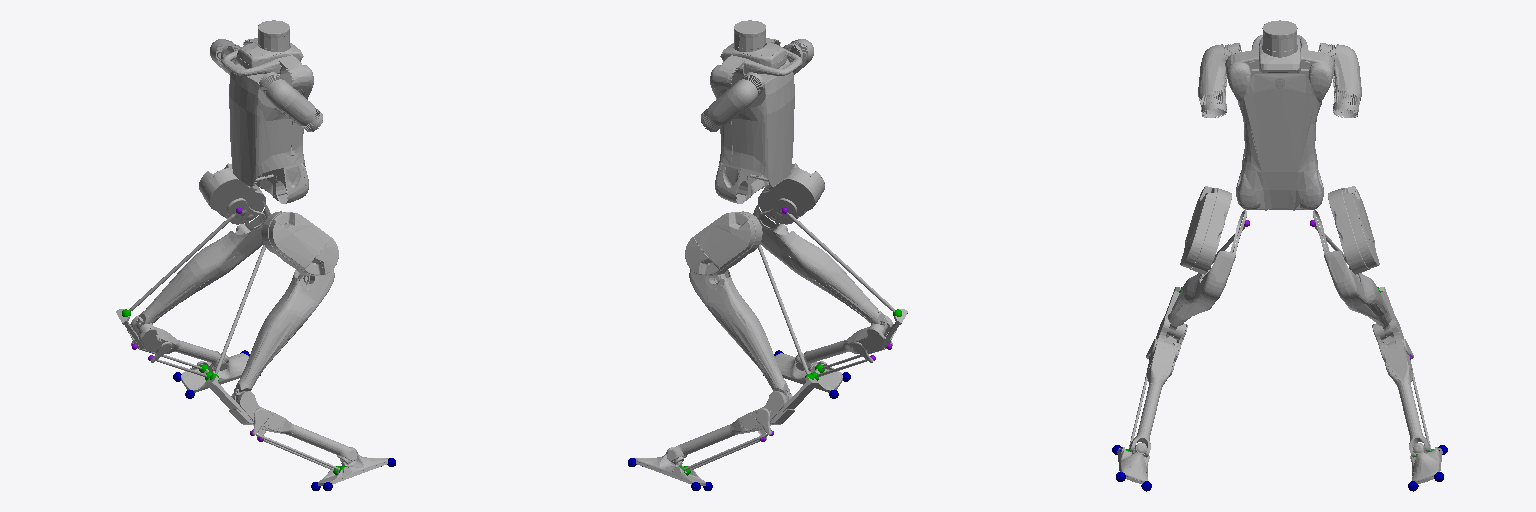
--- Render facts (derived) ---
Views: 3 orthographic renders of the robot side by side, from view 1: azimuth 30°, elevation 25°; view 2: azimuth 150°, elevation 25°; view 3: azimuth 270°, elevation 25°.
Robot: digit — 61 links, 60 joints (26 revolute, 34 fixed); root link torso; default pose: all joints at 0.
Links seen in each view (by area): view 1: torso, left_shin, right_shin, right_hip_pitch, left_hip_pitch, right_tarsus, right_shoulder_pitch, left_tarsus, left_toe_roll, right_waist_cap, right_toe_roll, right_shoulder_cap (+2 smaller); view 2: torso, right_shin, left_shin, left_hip_pitch, right_hip_pitch, left_tarsus, left_shoulder_pitch, right_tarsus, right_toe_roll, left_waist_cap, left_toe_roll, left_shoulder_cap (+3 smaller); view 3: torso, left_hip_pitch, right_hip_pitch, left_tarsus, right_tarsus, left_shin, right_shin, left_shoulder_pitch, right_shoulder_pitch, left_shoulder_cap, right_shoulder_cap, left_toe_roll (+3 smaller).
Link boxes in pixels (left/top/right/bottom): torso: left=221, top=20, right=307, bottom=195; left_shin: left=136, top=201, right=270, bottom=330; right_shin: left=234, top=269, right=334, bottom=401; right_hip_pitch: left=261, top=211, right=338, bottom=275; left_hip_pitch: left=199, top=163, right=265, bottom=229; right_tarsus: left=229, top=391, right=356, bottom=460; right_shoulder_pitch: left=259, top=72, right=322, bottom=131; left_tarsus: left=127, top=315, right=227, bottom=370; left_toe_roll: left=181, top=353, right=248, bottom=392; right_waist_cap: left=273, top=159, right=308, bottom=203; right_toe_roll: left=318, top=447, right=388, bottom=485; right_shoulder_cap: left=279, top=57, right=313, bottom=98; torso: left=716, top=20, right=802, bottom=195; right_shin: left=753, top=201, right=887, bottom=330; left_shin: left=689, top=269, right=789, bottom=401; left_hip_pitch: left=685, top=211, right=762, bottom=275; right_hip_pitch: left=758, top=163, right=824, bottom=229; left_tarsus: left=667, top=391, right=794, bottom=460; left_shoulder_pitch: left=701, top=72, right=764, bottom=131; right_tarsus: left=796, top=315, right=896, bottom=370; right_toe_roll: left=775, top=353, right=842, bottom=392; left_waist_cap: left=715, top=159, right=750, bottom=203; left_toe_roll: left=635, top=447, right=705, bottom=485; left_shoulder_cap: left=710, top=57, right=744, bottom=98; torso: left=1238, top=20, right=1321, bottom=209; left_hip_pitch: left=1313, top=186, right=1379, bottom=274; right_hip_pitch: left=1180, top=186, right=1246, bottom=274; left_tarsus: left=1372, top=317, right=1430, bottom=457; right_tarsus: left=1129, top=317, right=1187, bottom=457; left_shin: left=1324, top=251, right=1393, bottom=337; right_shin: left=1166, top=251, right=1235, bottom=337; left_shoulder_pitch: left=1318, top=43, right=1361, bottom=117; right_shoulder_pitch: left=1198, top=43, right=1241, bottom=117; left_shoulder_cap: left=1305, top=50, right=1334, bottom=103; right_shoulder_cap: left=1225, top=50, right=1254, bottom=103; left_toe_roll: left=1410, top=443, right=1442, bottom=483.
Size in the robot's own frame: 0.5717 by 0.9632 by 1.42 metres.
27 mesh visuals loaded from 19 distinct referenced files (12 binary STL); not drawn: 14 (reference not matched to a file when rendering).

The robot description file, URDF, robot "digit":
<?xml version="1.0" encoding="utf-8"?>
<robot name="digit">

    <link name="torso">
        <inertial>
            <origin rpy="0 0 0" xyz="0.001637 0.0002 0.259547"/>
            <mass value="15.028392"/>
            <inertia ixx="0.376284" ixy="-8.8e-05" ixz="0.008378" iyy="0.342655" iyz="6.7e-05" izz="0.100648"/>
        </inertial>
        <visual>
            <origin rpy="0 0 0" xyz="0 0 0"/>
            <geometry>
                <mesh filename="package://digit_description//meshes_new/torso.stl"/>
            </geometry>

            <material name="LightGrey">
                <color rgba="0.7 0.7 0.7 1.0"/>
            </material>
        </visual>
        <collision>
            <origin rpy="0 0 0" xyz="0 0 0"/>
            <geometry>
                <mesh filename="package://digit_description//meshes_new/torso.stl"/>
            </geometry>
        </collision>
    </link>

    <joint name="left_waist_cap_joint" type="fixed">
        <origin rpy="-1.57079632679 1.57 1.57079632679" xyz="-0.001 0.09 0.0"/>
        <axis xyz="0 0 1"/>
        <parent link="torso"/>
        <child link="left_waist_cap"/>
        <limit effort="1.4" lower="-1.309" upper="1.309" velocity="12.5"/>
    </joint>

    <link name="left_waist_cap">
        <inertial>
            <origin rpy="0 0 0" xyz="9e-06 0.003158 0.023405"/>
            <mass value="0.535396"/>
            <inertia ixx="0.000704" ixy="-1.4e-05" ixz="1.2e-05" iyy="0.00075" iyz="-3.5e-05" izz="0.000298"/>
        </inertial>
        <visual>
            <origin rpy="0 0 0" xyz="0 0 0"/>
            <geometry>
                <mesh filename="package://digit_description//meshes_new/shoulder-roll-housing.stl" scale="1 -1 1"/>
            </geometry>
            <material name="LightGrey">
                <color rgba="0.7 0.7 0.7 1.0"/>
            </material>
        </visual>
        <collision>
            <origin rpy="0 0 0" xyz="0 0 0"/>
            <geometry>
                <mesh filename="package://digit_description//meshes_new/shoulder-roll-housing.stl" scale="1 -1 1"/>
            </geometry>
        </collision>
    </link>

    <joint name="left-hip-roll_joint" type="revolute">
        <origin rpy="1.57079632679 -1.1955506 -1.57079632679" xyz="-0.001 0.091 0"/>
        <axis xyz="0 0 1"/>
        <parent link="torso"/>
        <child link="left_hip_roll"/>
        <limit effort="1.4" lower="-1.0472" upper="1.0472" velocity="12.15"/>
    </joint>
    <link name="left_hip_roll">
        <inertial>
            <origin rpy="0 0 0" xyz="-0.001967 0.000244 0.031435"/>
            <mass value="0.915088"/>
            <inertia ixx="0.001017" ixy="-3e-06" ixz="1.3e-05" iyy="0.001148" iyz="-4e-06" izz="0.000766"/>
        </inertial>
        <visual>
            <origin rpy="0 0 0" xyz="0 0 0"/>
            <geometry>
                <mesh filename="package://digit_description//meshes_new/hip-yaw-housing.stl"/>
            </geometry>

            <material name="LightGrey">
                <color rgba="0.7 0.7 0.7 1.0"/>
            </material>
            <material name="LightGrey">
                <color rgba="0.7 0.7 0.7 1.0"/>
            </material>
        </visual>
        <collision>
            <origin rpy="0 0 0" xyz="0 0 0"/>
            <geometry>
                <mesh filename="package://digit_description//meshes_new/hip-yaw-housing.stl"/>
            </geometry>
        </collision>
    </link>

    <joint name="left_hip_yaw_joint" type="revolute">
        <origin rpy="0 -1.57079632679 0" xyz="-0.0505 0 0.044"/>
        <axis xyz="0 0 1"/>
        <parent link="left_hip_roll"/>
        <child link="left_hip_yaw"/>
        <limit effort="1.4" lower="-0.698132" upper="0.698132" velocity="12.15"/>
    </joint>

    <link name="left_hip_yaw">
        <inertial>
            <origin rpy="0 0 0" xyz="1e-05 -0.001945 0.042033"/>
            <mass value="0.818753"/>
            <inertia ixx="0.001627" ixy="-1e-06" ixz="2e-06" iyy="0.001929" iyz="5.3e-05" izz="0.00077"/>
        </inertial>
        <visual>
            <origin rpy="0 0 0" xyz="0 0 0"/>
            <geometry>
                <mesh filename="package://digit_description//meshes_new/hip-pitch-housing.stl"/>
            </geometry>

            <material name="LightGrey">
                <color rgba="0.7 0.7 0.7 1.0"/>
            </material>
        </visual>
        <collision>
            <origin rpy="0 0 0" xyz="0 0 0"/>
            <geometry>
                <mesh filename="package://digit_description//meshes_new/hip-pitch-housing.stl"/>
            </geometry>
        </collision>
    </link>

    <joint name="left_hip_pitch_joint" type="revolute">
        <origin rpy="-1.57079632679 -0.7853981 3.1415927" xyz="0 0.004 0.068"/>
        <axis xyz="0 0 -1"/>
        <parent link="left_hip_yaw"/>
        <child link="left_hip_pitch"/>
        <limit effort="12.5" lower="-1.0472" upper="1.57079632679" velocity="8.5"/>
    </joint>

    <link name="left_hip_pitch">
        <inertial>
            <origin rpy="0 0 0" xyz="0.060537 0.000521 -0.038857"/>
            <mass value="6.244279"/>
            <inertia ixx="0.011533" ixy="-0.000171" ixz="0.000148" iyy="0.033345" iyz="0.000178" izz="0.033958"/>
        </inertial>
        <visual>
            <origin rpy="0 0 0" xyz="0 0 0"/>
            <geometry>
                <mesh filename="package://digit_description//meshes_new/hip-pitch.stl"/>
            </geometry>

            <material name="LightGrey">
                <color rgba="0.7 0.7 0.7 1.0"/>
            </material>
        </visual>
        <collision>
            <origin rpy="0 0 0" xyz="0 0 0"/>
            <geometry>
                <mesh filename="package://digit_description//meshes_new/hip-pitch.stl"/>
            </geometry>
        </collision>
    </link>

    <!-- <joint name="left_achillies_rod_joint1" type="revolute">
        <origin rpy="0.0087529 0.0708516 -1.435541" xyz="0 0 0.046"/>
        <axis xyz="0 1 0"/>
        <parent link="left_hip_pitch"/>
        <child link="left_achillies_rod_parent"/>
        <limit effort="12.5" lower="-1.5" upper="1.5" velocity="8.5085"/>
    </joint>

    <link name="left_achillies_rod_parent"/>

    <joint name="left_achillies_rod_joint2" type="revolute">
        <origin rpy="0 0 0" xyz="0 0 0"/>
        <axis xyz="0 0 1"/>
        <parent link="left_achillies_rod_parent"/>
        <child link="left_achillies_rod"/>
        <limit effort="12.5" lower="-1.5" upper="1.5" velocity="8.5085"/>
    </joint> -->

    <joint name="left_achillies_rod_joint" type="fixed">
        <origin rpy="0.0087529 0.0708516 -1.435541" xyz="0 0 0.046"/>
        <axis xyz="0 1 0"/>
        <parent link="left_hip_pitch"/>
        <child link="left_achillies_rod"/>
        <limit effort="12.5" lower="-1.5" upper="1.5" velocity="8.5085"/>
    </joint>

    <link name="left_achillies_rod">
        <inertial>
            <origin rpy="0 0 0" xyz="0.2506 0 0"/>
            <mass value="0.178148"/>
            <inertia ixx="3e-06" ixy="0" ixz="0" iyy="0.004501" iyz="0" izz="0.004501"/>
        </inertial>
        <visual>
            <origin rpy="0 0 0" xyz="0 0 0"/>
            <geometry>
                <mesh filename="package://digit_description//meshes_new/achilles-rod.stl"/>
            </geometry>

            <material name="LightGrey">
                <color rgba="0.7 0.7 0.7 1.0"/>
            </material>
        </visual>
        <collision>
            <origin rpy="0 0 0" xyz="0 0 0"/>
            <geometry>
                <mesh filename="package://digit_description//meshes_new/achilles-rod.stl"/>
            </geometry>
        </collision>
    </link>

    <joint name="left_knee_joint" type="revolute">
        <origin rpy="0 0 -1.57079632679" xyz="0.12 0 0.0045"/>
        <axis xyz="0 0 1"/>
        <parent link="left_hip_pitch"/>
        <child link="left_knee"/>
        <limit effort="12.5" lower="-1.2392" upper="0.8727" velocity="8.5085"/>
    </joint>

    <link name="left_knee">
        <inertial>
            <origin rpy="0 0 0" xyz="0.045641 0.042154 0.001657"/>
            <mass value="1.227077"/>
            <inertia ixx="0.002643" ixy="-0.001832" ixz="6.6e-05" iyy="0.005098" iyz="4.5e-05" izz="0.007019"/>
        </inertial>
        <visual>
            <origin rpy="0 0 0" xyz="0 0 0"/>
            <geometry>
                <mesh filename="package://digit_description//meshes_new/knee.stl"/>
            </geometry>

            <material name="LightGrey">
                <color rgba="0.7 0.7 0.7 1.0"/>
            </material>
        </visual>
        <collision>
            <origin rpy="0 0 0" xyz="0 0 0"/>
            <geometry>
                <mesh filename="package://digit_description//meshes_new/knee.stl"/>
            </geometry>
        </collision>
    </link>

    <joint name="left_shin_joint" type="fixed">
        <origin rpy="0 0 0" xyz="0.060677 0.047406 0"/>
        <axis xyz="0 0 1"/>
        <parent link="left_knee"/>
        <child link="left_shin"/>
        <limit effort="0" lower="-0.35" upper="0.35" velocity="10"/>
    </joint>

    <link name="left_shin">
        <inertial>
            <origin rpy="0 0 0" xyz="0.174265 0.010265 0.00107"/>
            <mass value="0.895793"/>
            <inertia ixx="0.001128" ixy="0.001098" ixz="0.000196" iyy="0.022492" iyz="-3e-06" izz="0.022793"/>
        </inertial>
        <visual>
            <origin rpy="0 0 0" xyz="0 0 0"/>
            <geometry>
                <mesh filename="package://digit_description//meshes_new/shin.stl"/>
            </geometry>

            <material name="LightGrey">
                <color rgba="0.7 0.7 0.7 1.0"/>
            </material>
        </visual>
        <collision>
            <origin rpy="0 0 0" xyz="0 0 0"/>
            <geometry>
                <mesh filename="package://digit_description//meshes_new/shin.stl"/>
            </geometry>
        </collision>
    </link>

    <joint name="left_tarsus_joint" type="revolute">
        <origin rpy="0 0 1.7976891" xyz="0.434759 0.02 0"/>
        <axis xyz="0 0 1"/>
        <parent link="left_shin"/>
        <child link="left_tarsus"/>
        <limit effort="0" lower="-0.8779" upper="1.2497" velocity="20"/>
    </joint>

    <link name="left_tarsus">
        <inertial>
            <origin rpy="0 0 0" xyz="0.100777 -0.029183 0.000678"/>
            <mass value="1.322865"/>
            <inertia ixx="0.000932" ixy="0.00061" ixz="0.000102" iyy="0.016409" iyz="9e-06" izz="0.016501"/>
        </inertial>
        <visual>
            <origin rpy="0 0 0" xyz="0 0 0"/>
            <geometry>
                <mesh filename="package://digit_description//meshes_new/tarsus.stl"/>
            </geometry>

            <material name="LightGrey">
                <color rgba="0.7 0.7 0.7 1.0"/>
            </material>
        </visual>
        <collision>
            <origin rpy="0 0 0" xyz="0 0 0"/>
            <geometry>
                <mesh filename="package://digit_description//meshes_new/tarsus.stl"/>
            </geometry>
        </collision>
    </link>

    <joint name="left_heel_spring_joint" type="fixed">
        <origin rpy="-0.0689073 -0.0370354 2.7207176" xyz="-0.01766 -0.029456 0.00104"/>
        <axis xyz="0 0 1"/>
        <parent link="left_tarsus"/>
        <child link="left_heel_spring"/>
        <limit effort="0.9" lower="-0.104719753333" upper="0.104719753333" velocity="11.5"/>
    </joint>

    <link name="left_heel_spring">
        <inertial>
            <origin rpy="0 0 0" xyz="0.049086 0.004739 -4.5e-05"/>
            <mass value="0.230018"/>
            <inertia ixx="5.5e-05" ixy="1.5e-05" ixz="1e-06" iyy="0.00074" iyz="0" izz="0.000701"/>
        </inertial>
        <visual>
            <origin rpy="0 0 0" xyz="0 0 0"/>
            <geometry>
                <mesh filename="package://digit_description//meshes_new/heel-spring.stl"/>
            </geometry>

            <material name="LightGrey">
                <color rgba="0.7 0.7 0.7 1.0"/>
            </material>
        </visual>
        <collision>
            <origin rpy="0 0 0" xyz="0 0 0"/>
            <geometry>
                <mesh filename="package://digit_description//meshes_new/heel-spring.stl"/>
            </geometry>
        </collision>
    </link>

    <joint name="left_toe_A_joint" type="revolute">
        <origin rpy="3.1415927 0 -1.6050048" xyz="0.059 -0.034 -0.0276"/>
        <axis xyz="0 0 1"/>
        <parent link="left_tarsus"/>
        <child link="left_toe_A"/>
        <limit effort="0.9" lower="-0.912807183222" upper="1.2644910215" velocity="11.5"/>
    </joint>

    <link name="left_toe_A">
        <inertial>
            <origin rpy="0 0 0" xyz="0.005161 1e-06 -0.002248"/>
            <mass value="0.139557"/>
            <inertia ixx="2.9e-05" ixy="0" ixz="-4e-06" iyy="5.8e-05" iyz="0" izz="7.4e-05"/>
        </inertial>
        <visual>
            <origin rpy="0 0 0" xyz="0 0 0"/>
            <geometry>
                <mesh filename="package://digit_description//meshes_new/toe-output.stl"/>
            </geometry>

            <material name="LightGrey">
                <color rgba="0.7 0.7 0.7 1.0"/>
            </material>
        </visual>
        <collision>
            <origin rpy="0 0 0" xyz="0 0 0"/>
            <geometry>
                <mesh filename="package://digit_description//meshes_new/toe-output.stl"/>
            </geometry>
        </collision>
    </link>

    <!-- <joint name="left_toe_A_rod_parent_joint" type="revolute">
        <origin rpy="-0.0374899 0.0049742 -1.5964351" xyz="0.057 0 -0.008"/>
        <axis xyz="0 1 0"/>
        <parent link="left_toe_A"/>
        <child link="left_toe_A_rod_parent"/>
        <limit effort="0.9" lower="-3.785398163397" upper="3.785398163397" velocity="11.5"/>
    </joint>

    <link name="left_toe_A_rod_parent" />

    <joint name="left_toe_A_rod_joint" type="revolute">
        <origin rpy="0 0 0" xyz="0 0 0"/>
        <axis xyz="0 0 1"/>
        <parent link="left_toe_A_rod_parent"/>
        <child link="left_toe_A_rod"/>
        <limit effort="0.9" lower="-3.785398163397" upper="3.785398163397" velocity="11.5"/>
    </joint> -->

    <joint name="left_toe_A_rod_parent_joint" type="fixed">
        <origin rpy="-0.0374899 0.0049742 -1.5964351" xyz="0.057 0 -0.008"/>
        <axis xyz="0 1 0"/>
        <parent link="left_toe_A"/>
        <child link="left_toe_A_rod"/>
        <limit effort="0.9" lower="-3.785398163397" upper="3.785398163397" velocity="11.5"/>
    </joint>

    <link name="left_toe_A_rod">
        <inertial>
            <origin rpy="0 0 0" xyz="0.171071 0 0"/>
            <mass value="0.090983"/>
            <inertia ixx="1e-06" ixy="0" ixz="0" iyy="0.001182" iyz="0" izz="0.001182"/>
        </inertial>
        <visual>
            <origin rpy="0 0 0" xyz="0 0 0"/>
            <geometry>
                <mesh filename="package://digit_description//meshes_new/toe-A-rod.stl"/>
            </geometry>

            <material name="LightGrey">
                <color rgba="0.7 0.7 0.7 1.0"/>
            </material>
        </visual>
        <collision>
            <origin rpy="0 0 0" xyz="0 0 0"/>
            <geometry>
                <mesh filename="package://digit_description//meshes_new/toe-A-rod.stl"/>
            </geometry>
        </collision>
    </link>

    <joint name="left_toe_B_joint" type="revolute">
        <origin rpy="0 0 -1.6049813" xyz="0.111 -0.034 0.0276"/>
        <axis xyz="0 0 1"/>
        <parent link="left_tarsus"/>
        <child link="left_toe_B"/>
        <limit effort="0.9" lower="-0.912807183222" upper="1.2644910215" velocity="11.5"/>
    </joint>

    <link name="left_toe_B">
        <inertial>
            <origin rpy="0 0 0" xyz="0.005161 1e-06 -0.002248"/>
            <mass value="0.139557"/>
            <inertia ixx="2.9e-05" ixy="0" ixz="-4e-06" iyy="5.8e-05" iyz="0" izz="7.4e-05"/>
        </inertial>
        <visual>
            <origin rpy="0 0 0" xyz="0 0 0"/>
            <geometry>
                <mesh filename="package://digit_description//meshes_new/toe-output.stl"/>
            </geometry>

            <material name="LightGrey">
                <color rgba="0.7 0.7 0.7 1.0"/>
            </material>
        </visual>
        <collision>
            <origin rpy="0 0 0" xyz="0 0 0"/>
            <geometry>
                <mesh filename="package://digit_description//meshes_new/toe-output.stl"/>
            </geometry>
        </collision>
    </link>

    <!-- <joint name="left_toe_B_rod_parent_joint" type="revolute">
        <origin rpy="-0.0536482 0.0051326 1.5948474" xyz="0.057 0 -0.008"/>
        <axis xyz="0 1 0"/>
        <parent link="left_toe_B"/>
        <child link="left_toe_B_rod_parent"/>
        <limit effort="0.9" lower="-3.785398163397" upper="3.785398163397" velocity="11.5"/>
    </joint>

    <link name="left_toe_B_rod_parent" />

    <joint name="left_toe_B_rod_joint" type="revolute">
        <origin rpy="0 0 0" xyz="0 0 0"/>
        <axis xyz="0 0 1"/>
        <parent link="left_toe_B_rod_parent"/>
        <child link="left_toe_B_rod"/>
        <limit effort="0.9" lower="-3.785398163397" upper="3.785398163397" velocity="11.5"/>
    </joint> -->

    <joint name="left_toe_B_rod_parent_joint" type="fixed">
        <origin rpy="-0.0536482 0.0051326 1.5948474" xyz="0.057 0 -0.008"/>
        <axis xyz="0 1 0"/>
        <parent link="left_toe_B"/>
        <child link="left_toe_B_rod"/>
        <limit effort="0.9" lower="-3.785398163397" upper="3.785398163397" velocity="11.5"/>
    </joint>

    <link name="left_toe_B_rod">
        <inertial>
            <origin rpy="0 0 0" xyz="0.142991 0 0"/>
            <mass value="0.079507"/>
            <inertia ixx="1e-06" ixy="0" ixz="0" iyy="0.000768" iyz="0" izz="0.000768"/>
        </inertial>
        <visual>
            <origin rpy="0 0 0" xyz="0 0 0"/>
            <geometry>
                <mesh filename="package://digit_description//meshes_new/toe-B-rod.stl"/>
            </geometry>

            <material name="LightGrey">
                <color rgba="0.7 0.7 0.7 1.0"/>
            </material>
        </visual>
        <collision>
            <origin rpy="0 0 0" xyz="0 0 0"/>
            <geometry>
                <mesh filename="package://digit_description//meshes_new/toe-B-rod.stl"/>
            </geometry>
        </collision>
    </link>

    <joint name="left_toe_pitch_joint" type="revolute">
        <origin rpy="0 0 1.1956" xyz="0.408 -0.04 0"/>
        <axis xyz="0 0 1"/>
        <parent link="left_tarsus"/>
        <child link="left_toe_pitch"/>
        <limit effort="0.9" lower="-0.785398163397" upper="0.785398163397" velocity="11.5"/>
    </joint>

    <link name="left_toe_pitch">
        <inertial>
            <origin rpy="0 0 0" xyz="-0.000141 2e-06 3e-06"/>
            <mass value="0.043881"/>
            <inertia ixx="5e-06" ixy="0" ixz="0" iyy="8e-06" iyz="0" izz="5e-06"/>
        </inertial>
        <visual>
            <origin rpy="0 0 0" xyz="0 0 0"/>
            <geometry>
                <mesh filename="package://digit_description//meshes_new/toe-pitch.stl"/>
            </geometry>

            <material name="LightGrey">
                <color rgba="0.7 0.7 0.7 1.0"/>
            </material>
        </visual>
        <collision>
            <origin rpy="0 0 0" xyz="0 0 0"/>
            <geometry>
                <mesh filename="package://digit_description//meshes_new/toe-pitch.stl"/>
            </geometry>
        </collision>
    </link>

    <joint name="left_toe_roll_joint" type="revolute">
        <origin rpy="0 1.57079632679 0" xyz="0 0 0"/>
        <axis xyz="0 0 1"/>
        <parent link="left_toe_pitch"/>
        <child link="left_toe_roll"/>
        <limit effort="0.9" lower="-0.6109" upper="0.6109" velocity="11.5"/>
    </joint>

    <link name="left_toe_roll">
        <inertial>
            <origin rpy="0 0 0" xyz="9e-06 -0.028084 -0.023204"/>
            <mass value="0.531283"/>
            <inertia ixx="0.00187" ixy="0" ixz="0" iyy="0.001616" iyz="0.000566" izz="0.000843"/>
        </inertial>
        <visual>
            <origin rpy="0 0 0" xyz="0 0 0"/>
            <geometry>
                <mesh filename="package://digit_description//meshes_new/toe-roll.stl"/>
            </geometry>

            <material name="LightGrey">
                <color rgba="0.7 0.7 0.7 1.0"/>
            </material>
        </visual>
        <collision>
            <origin rpy="0 0 0" xyz="0 0 0"/>
            <geometry>
                <mesh filename="package://digit_description//meshes_new/toe-roll.stl"/>
            </geometry>
        </collision>
    </link>

    <joint name="left_shoulder_cap_joint" type="fixed">
        <origin rpy="-1.57079632679 -1.3962633 1.57079632679" xyz="0.001 0.12 0.4"/>
        <axis xyz="0 0 1"/>
        <parent link="torso"/>
        <child link="left_shoulder_cap"/>
        <limit effort="1.4" lower="-1.309" upper="1.309" velocity="12.5"/>
    </joint>

    <link name="left_shoulder_cap">
        <inertial>
            <origin rpy="0 0 0" xyz="9e-06 -0.003158 0.023405"/>
            <mass value="0.535396"/>
            <inertia ixx="0.000704" ixy="1.4e-05" ixz="1.2e-05" iyy="0.00075" iyz="3.5e-05" izz="0.000298"/>
        </inertial>
        <visual>
            <origin rpy="0 0 0" xyz="0 0 0"/>
            <geometry>
                <mesh filename="package://digit_description//meshes_new/shoulder-roll-housing.stl"/>
            </geometry>

            <material name="LightGrey">
                <color rgba="0.7 0.7 0.7 1.0"/>
            </material>
        </visual>
        <collision>
            <origin rpy="0 0 0" xyz="0 0 0"/>
            <geometry>
                <mesh filename="package://digit_description//meshes_new/shoulder-roll-housing.stl"/>
            </geometry>
        </collision>
    </link>

    <joint name="left_shoulder_roll_joint" type="revolute">
        <origin rpy="-1.57079632679 -1.3962633 1.57079632679" xyz="-0.001 0.12 0.4"/>
        <axis xyz="0 0 1"/>
        <parent link="torso"/>
        <child link="left_shoulder_roll"/>
        <limit effort="1.4" lower="-1.309" upper="1.309" velocity="12.5"/>
    </joint>

    <link name="left_shoulder_roll">
        <inertial>
            <origin rpy="0 0 0" xyz="9e-06 -0.003158 0.023405"/>
            <mass value="0.535396"/>
            <inertia ixx="0.000704" ixy="1.4e-05" ixz="1.2e-05" iyy="0.00075" iyz="3.5e-05" izz="0.000298"/>
        </inertial>
        <visual>
            <origin rpy="0 0 0" xyz="0 0 0"/>
            <geometry>
                <mesh filename="package://digit_description//meshes_new/arm-L1.stl"/>
            </geometry>

            <material name="LightGrey">
                <color rgba="0.7 0.7 0.7 1.0"/>
            </material>
        </visual>
        <collision>
            <origin rpy="0 0 0" xyz="0 0 0"/>
            <geometry>
                <mesh filename="package://digit_description//meshes_new/arm-L1.stl"/>
            </geometry>
        </collision>
    </link>

    <joint name="left_shoulder_pitch_joint" type="revolute">
        <origin rpy="1.57079632679 0.785398163397 0.0" xyz="-0.00017 -0.011055 0.0555"/>
        <axis xyz="0 0 -1"/>
        <parent link="left_shoulder_roll"/>
        <child link="left_shoulder_pitch"/>
        <limit effort="1.4" lower="-2.5307" upper="2.5307" velocity="12.5"/>
    </joint>

    <link name="left_shoulder_pitch">
        <inertial>
            <origin rpy="0 0 0" xyz="-4.2e-05 -0.061882 -0.073788"/>
            <mass value="1.440357"/>
            <inertia ixx="0.006761" ixy="-6e-06" ixz="-3e-06" iyy="0.002087" iyz="-0.002046" izz="0.005778"/>
        </inertial>
        <visual>
            <origin rpy="0 0 0" xyz="0 0 0"/>
            <geometry>
                <mesh filename="package://digit_description//meshes_new/arm-L2.stl"/>
            </geometry>
            <material name="LightGrey">
                <color rgba="0.7 0.7 0.7 1.0"/>
            </material>
        </visual>
        <collision>
            <origin rpy="0 0 0" xyz="0 0 0"/>
            <geometry>
                <mesh filename="package://digit_description//meshes_new/arm-L2.stl"/>
            </geometry>
        </collision>
    </link>

    <joint name="shoulder_yaw_joint_left" type="revolute">
        <origin rpy="1.57079632679 0 0" xyz="0 -0.165 -0.1"/>
        <axis xyz="0 0 1"/>
        <parent link="left_shoulder_pitch"/>
        <child link="left_shoulder_yaw"/>
        <limit effort="1.4" lower="-1.7453" upper="1.7453" velocity="10"/>
    </joint>

    <link name="left_shoulder_yaw">
        <inertial>
            <origin rpy="0 0 0" xyz="-3e-05 -0.001937 0.11407"/>
            <mass value="1.065387"/>
            <inertia ixx="0.006967" ixy="1e-06" ixz="-1e-06" iyy="0.007003" iyz="1.5e-05" izz="0.000673"/>
        </inertial>
        <visual>
            <origin rpy="0 0 0" xyz="0 0 0"/>
            <geometry>
                <mesh filename="package://digit_description//meshes_new/arm-L3.stl"/>
            </geometry>

            <material name="LightGrey">
                <color rgba="0.7 0.7 0.7 1.0"/>
            </material>
        </visual>
        <collision>
            <origin rpy="0 0 0" xyz="0 0 0"/>
            <geometry>
                <mesh filename="package://digit_description//meshes_new/arm-L3.stl"/>
            </geometry>
        </collision>
    </link>

    <joint name="left_elbow_joint" type="revolute">
        <origin rpy="1.57079632679 -0.3926991 0" xyz="0 -0.0385 0.185"/>
        <axis xyz="0 0 1"/>
        <parent link="left_shoulder_yaw"/>
        <child link="left_elbow"/>
        <limit effort="1.4" lower="-1.3526" upper="1.3526" velocity="12.5"/>
    </joint>

    <link name="left_elbow">
        <inertial>
            <origin rpy="0 0 0" xyz="0.107996 -0.000521 -0.017765"/>
            <mass value="0.550582"/>
            <inertia ixx="0.000476" ixy="-2.9e-05" ixz="0.001403" iyy="0.009564" iyz="9e-06" izz="0.009437"/>
        </inertial>
        <visual>
            <origin rpy="0 0 0" xyz="0 0 0"/>
            <geometry>
                <mesh filename="package://digit_description//meshes_new/arm-L4.stl"/>
            </geometry>

            <material name="LightGrey">
                <color rgba="0.7 0.7 0.7 1.0"/>
            </material>
        </visual>
        <collision>
            <origin rpy="0 0 0" xyz="0 0 0"/>
            <geometry>
                <mesh filename="package://digit_description//meshes_new/arm-L4.stl"/>
            </geometry>
        </collision>
    </link>


    <joint name="right_waist_cap_joint" type="fixed">
        <origin rpy="1.57079632679 1.57 -1.57079632679" xyz="-0.001 -0.09 0.0"/>
        <axis xyz="0 0 1"/>
        <parent link="torso"/>
        <child link="right_waist_cap"/>
        <limit effort="1.4" lower="-1.309" upper="1.309" velocity="12.5"/>
    </joint>

    <link name="right_waist_cap">
        <inertial>
            <origin rpy="0 0 0" xyz="9e-06 -0.003158 0.023405"/>
            <mass value="0.535396"/>
            <inertia ixx="0.000704" ixy="1.4e-05" ixz="1.2e-05" iyy="0.00075" iyz="3.5e-05" izz="0.000298"/>
        </inertial>
        <visual>
            <origin rpy="0 0 0" xyz="0 0 0"/>
            <geometry>
                <mesh filename="package://digit_description//meshes_new/shoulder-roll-housing.stl"/>
            </geometry>
            <material name="LightGrey">
                <color rgba="0.7 0.7 0.7 1.0"/>
            </material>
        </visual>
        <collision>
            <origin rpy="0 0 0" xyz="0 0 0"/>
            <geometry>
                <mesh filename="package://digit_description//meshes_new/shoulder-roll-housing.stl"/>
            </geometry>
        </collision>
    </link>

    <joint name="right-hip-roll_joint" type="revolute">
        <origin rpy="-1.57079632679 -1.1955506 1.57079632679" xyz="-0.001 -0.091 0"/>
        <axis xyz="0 0 1"/>
        <parent link="torso"/>
        <child link="right_hip_roll"/>
        <limit effort="1.4" lower="-1.0472" upper="1.0472" velocity="12.15"/>
    </joint>
    <link name="right_hip_roll">
        <inertial>
            <origin rpy="0 0 0" xyz="-0.001967 -0.000244 0.031435"/>
            <mass value="0.915088"/>
            <inertia ixx="0.001017" ixy="3e-06" ixz="1.3e-05" iyy="0.001148" iyz="4e-06" izz="0.000766"/>
        </inertial>
        <visual>
            <origin rpy="0 0 0" xyz="0 0 0"/>
            <geometry>
                <mesh filename="package://digit_description//meshes_new/hip-yaw-housing.stl" scale="1 -1 1"/>
            </geometry>

            <material name="LightGrey">
                <color rgba="0.7 0.7 0.7 1.0"/>
            </material>
            <material name="LightGrey">
                <color rgba="0.7 0.7 0.7 1.0"/>
            </material>
        </visual>
        <collision>
            <origin rpy="0 0 0" xyz="0 0 0"/>
            <geometry>
                <mesh filename="package://digit_description//meshes_new/hip-yaw-housing.stl" scale="1 -1 1"/>
            </geometry>
        </collision>
    </link>

    <joint name="right_hip_yaw_joint" type="revolute">
        <origin rpy="0 -1.57079632679 0" xyz="-0.0505 0 0.044"/>
        <axis xyz="0 0 1"/>
        <parent link="right_hip_roll"/>
        <child link="right_hip_yaw"/>
        <limit effort="1.4" lower="-0.698132" upper="0.698132" velocity="12.15"/>
    </joint>

    <link name="right_hip_yaw">
        <inertial>
            <origin rpy="0 0 0" xyz="1e-05 0.001945 0.042033"/>
            <mass value="0.818753"/>
            <inertia ixx="0.001627" ixy="1e-06" ixz="2e-06" iyy="0.001929" iyz="-5.3e-05" izz="0.00077"/>
        </inertial>
        <visual>
            <origin rpy="0 0 0" xyz="0 0 0"/>
            <geometry>
                <mesh filename="package://digit_description//meshes_new/hip-pitch-housing.stl" scale="1 -1 1"/>
            </geometry>

            <material name="LightGrey">
                <color rgba="0.7 0.7 0.7 1.0"/>
            </material>
        </visual>
        <collision>
            <origin rpy="0 0 0" xyz="0 0 0"/>
            <geometry>
                <mesh filename="package://digit_description//meshes_new/hip-pitch-housing.stl" scale="1 -1 1"/>
            </geometry>
        </collision>
    </link>

    <joint name="right_hip_pitch_joint" type="revolute">
        <origin rpy="1.57079632679 -0.7853981 -3.1415927" xyz="0 -0.004 0.068"/>
        <axis xyz="0 0 -1"/>
        <parent link="right_hip_yaw"/>
        <child link="right_hip_pitch"/>
        <limit effort="12.5" lower="-1.0472" upper="1.57079632679" velocity="8.5"/>
    </joint>

    <link name="right_hip_pitch">
        <inertial>
            <origin rpy="0 0 0" xyz="0.060537 -0.000521 -0.038857"/>
            <mass value="6.244279"/>
            <inertia ixx="0.011533" ixy="0.000171" ixz="0.000148" iyy="0.033345" iyz="-0.000178" izz="0.033958"/>
        </inertial>
        <visual>
            <origin rpy="0 0 0" xyz="0 0 0"/>
            <geometry>
                <mesh filename="package://digit_description//meshes_new/hip-pitch.stl" scale="1 -1 1"/>
            </geometry>

            <material name="LightGrey">
                <color rgba="0.7 0.7 0.7 1.0"/>
            </material>
        </visual>
        <collision>
            <origin rpy="0 0 0" xyz="0 0 0"/>
            <geometry>
                <mesh filename="package://digit_description//meshes_new/hip-pitch.stl" scale="1 -1 1"/>
            </geometry>
        </collision>
    </link>

    <!-- <joint name="right_achillies_rod_joint1" type="revolute">
        <origin rpy="-0.0087529 0.0708516 1.435541" xyz="0 0 0.046"/>
        <axis xyz="0 1 0"/>
        <parent link="right_hip_pitch"/>
        <child link="right_achillies_rod_parent"/>
        <limit effort="12.5" lower="-1.5" upper="1.5" velocity="8.5085"/>
    </joint>

    <link name="right_achillies_rod_parent"/>

    <joint name="right_achillies_rod_joint2" type="revolute">
        <origin rpy="0 0 0" xyz="0 0 0"/>
        <axis xyz="0 0 1"/>
        <parent link="right_achillies_rod_parent"/>
        <child link="right_achillies_rod"/>
        <limit effort="12.5" lower="-1.5" upper="1.5" velocity="8.5085"/>
    </joint> -->

    <joint name="right_achillies_rod_joint" type="fixed">
        <origin rpy="-0.0087529 0.0708516 1.435541" xyz="0 0 0.046"/>
        <axis xyz="0 1 0"/>
        <parent link="right_hip_pitch"/>
        <child link="right_achillies_rod"/>
        <limit effort="12.5" lower="-1.5" upper="1.5" velocity="8.5085"/>
    </joint>

    <link name="right_achillies_rod">
        <inertial>
            <origin rpy="0 0 0" xyz="0.2506 0 0"/>
            <mass value="0.178148"/>
            <inertia ixx="3e-06" ixy="0" ixz="0" iyy="0.004501" iyz="0" izz="0.004501"/>
        </inertial>
        <visual>
            <origin rpy="0 0 0" xyz="0 0 0"/>
            <geometry>
                <mesh filename="package://digit_description//meshes_new/achilles-rod.stl" scale="1 -1 1"/>
            </geometry>

            <material name="LightGrey">
                <color rgba="0.7 0.7 0.7 1.0"/>
            </material>
        </visual>
        <collision>
            <origin rpy="0 0 0" xyz="0 0 0"/>
            <geometry>
                <mesh filename="package://digit_description//meshes_new/achilles-rod.stl" scale="1 -1 1"/>
            </geometry>
        </collision>
    </link>

    <joint name="right_knee_joint" type="revolute">
        <origin rpy="0 0 1.57079632679" xyz="0.12 0 0.0045"/>
        <axis xyz="0 0 1"/>
        <parent link="right_hip_pitch"/>
        <child link="right_knee"/>
        <limit effort="12.5" lower="-0.8727" upper="1.2392" velocity="8.5085"/>
    </joint>

    <link name="right_knee">
        <inertial>
            <origin rpy="0 0 0" xyz="0.045641 -0.042154 0.001657"/>
            <mass value="1.227077"/>
            <inertia ixx="0.002643" ixy="0.001832" ixz="6.6e-05" iyy="0.005098" iyz="-4.5e-05" izz="0.007019"/>
        </inertial>
        <visual>
            <origin rpy="0 0 0" xyz="0 0 0"/>
            <geometry>
                <mesh filename="package://digit_description//meshes_new/knee.stl" scale="1 -1 1"/>
            </geometry>

            <material name="LightGrey">
                <color rgba="0.7 0.7 0.7 1.0"/>
            </material>
        </visual>
        <collision>
            <origin rpy="0 0 0" xyz="0 0 0"/>
            <geometry>
                <mesh filename="package://digit_description//meshes_new/knee.stl" scale="1 -1 1"/>
            </geometry>
        </collision>
    </link>

    <joint name="right_shin_joint" type="fixed">
        <origin rpy="0 0 0" xyz="0.060677 -0.047406 0"/>
        <axis xyz="0 0 1"/>
        <parent link="right_knee"/>
        <child link="right_shin"/>
        <limit effort="0" lower="-0.35" upper="0.35" velocity="10"/>
    </joint>

    <link name="right_shin">
        <inertial>
            <origin rpy="0 0 0" xyz="0.174265 -0.010265 0.00107"/>
            <mass value="0.895793"/>
            <inertia ixx="0.001128" ixy="-0.001098" ixz="0.000196" iyy="0.022492" iyz="3e-06" izz="0.022793"/>
        </inertial>
        <visual>
            <origin rpy="0 0 0" xyz="0 0 0"/>
            <geometry>
                <mesh filename="package://digit_description//meshes_new/shin.stl" scale="1 -1 1"/>
            </geometry>

            <material name="LightGrey">
                <color rgba="0.7 0.7 0.7 1.0"/>
            </material>
        </visual>
        <collision>
            <origin rpy="0 0 0" xyz="0 0 0"/>
            <geometry>
                <mesh filename="package://digit_description//meshes_new/shin.stl" scale="1 -1 1"/>
            </geometry>
        </collision>
    </link>

    <joint name="right_tarsus_joint" type="revolute">
        <origin rpy="0 0 -1.7976891" xyz="0.434759 -0.02 0"/>
        <axis xyz="0 0 1"/>
        <parent link="right_shin"/>
        <child link="right_tarsus"/>
        <limit effort="0" lower="-1.2497" upper="0.8779" velocity="20"/>
    </joint>

    <link name="right_tarsus">
        <inertial>
            <origin rpy="0 0 0" xyz="0.100777 0.029183 0.000678"/>
            <mass value="1.322865"/>
            <inertia ixx="0.000932" ixy="-0.00061" ixz="0.000102" iyy="0.016409" iyz="-9e-06" izz="0.016501"/>
        </inertial>
        <visual>
            <origin rpy="0 0 0" xyz="0 0 0"/>
            <geometry>
                <mesh filename="package://digit_description//meshes_new/tarsus.stl" scale="1 -1 1"/>
            </geometry>

            <material name="LightGrey">
                <color rgba="0.7 0.7 0.7 1.0"/>
            </material>
        </visual>
        <collision>
            <origin rpy="0 0 0" xyz="0 0 0"/>
            <geometry>
                <mesh filename="package://digit_description//meshes_new/tarsus.stl" scale="1 -1 1"/>
            </geometry>
        </collision>
    </link>

    <joint name="right_heel_spring_joint" type="fixed">
        <origin rpy="0.0689073 -0.0370354 -2.7207176" xyz="-0.01766 0.029456 0.00104"/>
        <axis xyz="0 0 1"/>
        <parent link="right_tarsus"/>
        <child link="right_heel_spring"/>
        <limit effort="0.9" lower="-0.104719753333" upper="0.104719753333" velocity="11.5"/>
    </joint>

    <link name="right_heel_spring">
        <inertial>
            <origin rpy="0 0 0" xyz="0.049086 -0.004739 -4.5e-05"/>
            <mass value="0.230018"/>
            <inertia ixx="5.5e-05" ixy="-1.5e-05" ixz="1e-06" iyy="0.00074" iyz="0" izz="0.000701"/>
        </inertial>
        <visual>
            <origin rpy="0 0 0" xyz="0 0 0"/>
            <geometry>
                <mesh filename="package://digit_description//meshes_new/heel-spring.stl" scale="1 -1 1"/>
            </geometry>

            <material name="LightGrey">
                <color rgba="0.7 0.7 0.7 1.0"/>
            </material>
        </visual>
        <collision>
            <origin rpy="0 0 0" xyz="0 0 0"/>
            <geometry>
                <mesh filename="package://digit_description//meshes_new/heel-spring.stl" scale="1 -1 1"/>
            </geometry>
        </collision>
    </link>

    <joint name="right_toe_A_joint" type="revolute">
        <origin rpy="-3.1415927 0 1.6050048" xyz="0.059 0.034 -0.0276"/>
        <axis xyz="0 0 1"/>
        <parent link="right_tarsus"/>
        <child link="right_toe_A"/>
        <limit effort="0.9" lower="-1.2644910215" upper="0.912807183222" velocity="11.5"/>
    </joint>

    <link name="right_toe_A">
        <inertial>
            <origin rpy="0 0 0" xyz="0.005161 -1e-06 -0.002248"/>
            <mass value="0.139557"/>
            <inertia ixx="2.9e-05" ixy="0" ixz="-4e-06" iyy="5.8e-05" iyz="0" izz="7.4e-05"/>
        </inertial>
        <visual>
            <origin rpy="0 0 0" xyz="0 0 0"/>
            <geometry>
                <mesh filename="package://digit_description//meshes_new/toe-output.stl" scale="1 -1 1"/>
            </geometry>

            <material name="LightGrey">
                <color rgba="0.7 0.7 0.7 1.0"/>
            </material>
        </visual>
        <collision>
            <origin rpy="0 0 0" xyz="0 0 0"/>
            <geometry>
                <mesh filename="package://digit_description//meshes_new/toe-output.stl" scale="1 -1 1"/>
            </geometry>
        </collision>
    </link>

    <!-- <joint name="right_toe_A_rod_parent_joint" type="revolute">
        <origin rpy="0.0374899 0.0049742 1.5964351" xyz="0.057 0 -0.008"/>
        <axis xyz="0 1 0"/>
        <parent link="right_toe_A"/>
        <child link="right_toe_A_rod_parent"/>
        <limit effort="0.9" lower="-3.785398163397" upper="3.785398163397" velocity="11.5"/>
    </joint>

    <link name="right_toe_A_rod_parent" />

    <joint name="right_toe_A_rod_joint" type="revolute">
        <origin rpy="0 0 0" xyz="0 0 0"/>
        <axis xyz="0 0 1"/>
        <parent link="right_toe_A_rod_parent"/>
        <child link="right_toe_A_rod"/>
        <limit effort="0.9" lower="-3.785398163397" upper="3.785398163397" velocity="11.5"/>
    </joint> -->

    <joint name="right_toe_A_rod_parent_joint" type="fixed">
        <origin rpy="0.0374899 0.0049742 1.5964351" xyz="0.057 0 -0.008"/>
        <axis xyz="0 1 0"/>
        <parent link="right_toe_A"/>
        <child link="right_toe_A_rod"/>
        <limit effort="0.9" lower="-3.785398163397" upper="3.785398163397" velocity="11.5"/>
    </joint>


    <link name="right_toe_A_rod">
        <inertial>
            <origin rpy="0 0 0" xyz="0.171071 0 0"/>
            <mass value="0.090983"/>
            <inertia ixx="1e-06" ixy="0" ixz="0" iyy="0.001182" iyz="0" izz="0.001182"/>
        </inertial>
        <visual>
            <origin rpy="0 0 0" xyz="0 0 0"/>
            <geometry>
                <mesh filename="package://digit_description//meshes_new/toe-A-rod.stl" scale="1 -1 1"/>
            </geometry>

            <material name="LightGrey">
                <color rgba="0.7 0.7 0.7 1.0"/>
            </material>
        </visual>
        <collision>
            <origin rpy="0 0 0" xyz="0 0 0"/>
            <geometry>
                <mesh filename="package://digit_description//meshes_new/toe-A-rod.stl" scale="1 -1 1"/>
            </geometry>
        </collision>
    </link>

    <joint name="right_toe_B_joint" type="revolute">
        <origin rpy="0 0 1.6049813" xyz="0.111 0.034 0.0276"/>
        <axis xyz="0 0 1"/>
        <parent link="right_tarsus"/>
        <child link="right_toe_B"/>
        <limit effort="0.9" lower="-0.912807183222" upper="1.2644910215" velocity="11.5"/>
    </joint>

    <link name="right_toe_B">
        <inertial>
            <origin rpy="0 0 0" xyz="0.005161 -1e-06 -0.002248"/>
            <mass value="0.139557"/>
            <inertia ixx="2.9e-05" ixy="0" ixz="-4e-06" iyy="5.8e-05" iyz="0" izz="7.4e-05"/>
        </inertial>
        <visual>
            <origin rpy="0 0 0" xyz="0 0 0"/>
            <geometry>
                <mesh filename="package://digit_description//meshes_new/toe-output.stl" scale="1 -1 1"/>
            </geometry>

            <material name="LightGrey">
                <color rgba="0.7 0.7 0.7 1.0"/>
            </material>
        </visual>
        <collision>
            <origin rpy="0 0 0" xyz="0 0 0"/>
            <geometry>
                <mesh filename="package://digit_description//meshes_new/toe-output.stl" scale="1 -1 1"/>
            </geometry>
        </collision>
    </link>

    <!-- <joint name="right_toe_B_rod_parent_joint" type="revolute">
        <origin rpy="0.0536482 0.0051326 -1.5948474" xyz="0.057 0 -0.008"/>
        <axis xyz="0 1 0"/>
        <parent link="right_toe_B"/>
        <child link="right_toe_B_rod_parent"/>
        <limit effort="0.9" lower="-3.785398163397" upper="3.785398163397" velocity="11.5"/>
    </joint>

    <link name="right_toe_B_rod_parent" />

    <joint name="right_toe_B_rod_joint" type="revolute">
        <origin rpy="0 0 0" xyz="0 0 0"/>
        <axis xyz="0 0 1"/>
        <parent link="right_toe_B_rod_parent"/>
        <child link="right_toe_B_rod"/>
        <limit effort="0.9" lower="-3.785398163397" upper="3.785398163397" velocity="11.5"/>
    </joint> -->

    <joint name="right_toe_B_rod_parent_joint" type="fixed">
        <origin rpy="0.0536482 0.0051326 -1.5948474" xyz="0.057 0 -0.008"/>
        <axis xyz="0 1 0"/>
        <parent link="right_toe_B"/>
        <child link="right_toe_B_rod"/>
        <limit effort="0.9" lower="-3.785398163397" upper="3.785398163397" velocity="11.5"/>
    </joint>

    <link name="right_toe_B_rod">
        <inertial>
            <origin rpy="0 0 0" xyz="0.142991 0 0"/>
            <mass value="0.079507"/>
            <inertia ixx="1e-06" ixy="0" ixz="0" iyy="0.000768" iyz="0" izz="0.000768"/>
        </inertial>
        <visual>
            <origin rpy="0 0 0" xyz="0 0 0"/>
            <geometry>
                <mesh filename="package://digit_description//meshes_new/toe-B-rod.stl" scale="1 -1 1"/>
            </geometry>

            <material name="LightGrey">
                <color rgba="0.7 0.7 0.7 1.0"/>
            </material>
        </visual>
        <collision>
            <origin rpy="0 0 0" xyz="0 0 0"/>
            <geometry>
                <mesh filename="package://digit_description//meshes_new/toe-B-rod.stl" scale="1 -1 1"/>
            </geometry>
        </collision>
    </link>

    <joint name="right_toe_pitch_joint" type="revolute">
        <origin rpy="0 0 -1.1956" xyz="0.408 0.04 0"/>
        <axis xyz="0 0 1"/>
        <parent link="right_tarsus"/>
        <child link="right_toe_pitch"/>
        <limit effort="0.9" lower="-0.785398163397" upper="0.785398163397" velocity="11.5"/>
    </joint>

    <link name="right_toe_pitch">
        <inertial>
            <origin rpy="0 0 0" xyz="-0.000141 -2e-06 3e-06"/>
            <mass value="0.043881"/>
            <inertia ixx="5e-06" ixy="0" ixz="0" iyy="8e-06" iyz="0" izz="5e-06"/>
        </inertial>
        <visual>
            <origin rpy="0 0 0" xyz="0 0 0"/>
            <geometry>
                <mesh filename="package://digit_description//meshes_new/toe-pitch.stl" scale="1 -1 1"/>
            </geometry>

            <material name="LightGrey">
                <color rgba="0.7 0.7 0.7 1.0"/>
            </material>
        </visual>
        <collision>
            <origin rpy="0 0 0" xyz="0 0 0"/>
            <geometry>
                <mesh filename="package://digit_description//meshes_new/toe-pitch.stl" scale="1 -1 1"/>
            </geometry>
        </collision>
    </link>

    <joint name="right_toe_roll_joint" type="revolute">
        <origin rpy="0 1.57079632679 0" xyz="0 0 0"/>
        <axis xyz="0 0 1"/>
        <parent link="right_toe_pitch"/>
        <child link="right_toe_roll"/>
        <limit effort="0.9" lower="-0.6109" upper="0.6109" velocity="11.5"/>
    </joint>

    <link name="right_toe_roll">
        <inertial>
            <origin rpy="0 0 0" xyz="9e-06 0.028084 -0.023204"/>
            <mass value="0.531283"/>
            <inertia ixx="0.00187" ixy="0" ixz="0" iyy="0.001616" iyz="-0.000566" izz="0.000843"/>
        </inertial>
        <visual>
            <origin rpy="0 0 0" xyz="0 0 0"/>
            <geometry>
                <mesh filename="package://digit_description//meshes_new/toe-roll.stl" scale="1 -1 1"/>
            </geometry>

            <material name="LightGrey">
                <color rgba="0.7 0.7 0.7 1.0"/>
            </material>
        </visual>
        <collision>
            <origin rpy="0 0 0" xyz="0 0 0"/>
            <geometry>
                <mesh filename="package://digit_description//meshes_new/toe-roll.stl" scale="1 -1 1"/>
            </geometry>
        </collision>
    </link>

    <joint name="right_shoulder_cap_joint" type="fixed">
        <origin rpy="1.57079632679 -1.3962633 -1.57079632679" xyz="0.001 -0.12 0.4"/>
        <axis xyz="0 0 1"/>
        <parent link="torso"/>
        <child link="right_shoulder_cap"/>
        <limit effort="1.4" lower="-1.309" upper="1.309" velocity="12.5"/>
    </joint>

    <link name="right_shoulder_cap">
        <inertial>
            <origin rpy="0 0 0" xyz="9e-06 0.003158 0.023405"/>
            <mass value="0.535396"/>
            <inertia ixx="0.000704" ixy="-1.4e-05" ixz="1.2e-05" iyy="0.00075" iyz="-3.5e-05" izz="0.000298"/>
        </inertial>
        <visual>
            <origin rpy="0 0 0" xyz="0 0 0"/>
            <geometry>
                <mesh filename="package://digit_description//meshes_new/shoulder-roll-housing.stl" scale="1 -1 1"/>
            </geometry>

            <material name="LightGrey">
                <color rgba="0.7 0.7 0.7 1.0"/>
            </material>
        </visual>
        <collision>
            <origin rpy="0 0 0" xyz="0 0 0"/>
            <geometry>
                <mesh filename="package://digit_description//meshes_new/shoulder-roll-housing.stl" scale="1 -1 1"/>
            </geometry>
        </collision>
    </link>

    <joint name="right_shoulder_roll_joint" type="revolute">
        <origin rpy="1.57079632679 -1.3962633 -1.57079632679" xyz="-0.001 -0.12 0.4"/>
        <axis xyz="0 0 1"/>
        <parent link="torso"/>
        <child link="right_shoulder_roll"/>
        <limit effort="1.4" lower="-1.309" upper="1.309" velocity="12.5"/>
    </joint>

    <link name="right_shoulder_roll">
        <inertial>
            <origin rpy="0 0 0" xyz="9e-06 -0.003158 0.023405"/>
            <mass value="0.535396"/>
            <inertia ixx="0.000704" ixy="-1.4e-05" ixz="1.2e-05" iyy="0.00075" iyz="-3.5e-05" izz="0.000298"/>
        </inertial>
        <visual>
            <origin rpy="0 0 0" xyz="0 0 0"/>
            <geometry>
                <mesh filename="package://digit_description//meshes_new/arm-L1.stl" scale="1 -1 1"/>
            </geometry>

            <material name="LightGrey">
                <color rgba="0.7 0.7 0.7 1.0"/>
            </material>
        </visual>
        <collision>
            <origin rpy="0 0 0" xyz="0 0 0"/>
            <geometry>
                <mesh filename="package://digit_description//meshes_new/arm-L1.stl" scale="1 -1 1"/>
            </geometry>
        </collision>
    </link>

    <joint name="right_shoulder_pitch_joint" type="revolute">
        <origin rpy="-1.57079632679 0.785398163397 0.0" xyz="-0.00017 0.011055 0.0555"/>
        <axis xyz="0 0 -1"/>
        <parent link="right_shoulder_roll"/>
        <child link="right_shoulder_pitch"/>
        <limit effort="1.4" lower="-2.5307" upper="2.5307" velocity="12.5"/>
    </joint>

    <link name="right_shoulder_pitch">
        <inertial>
            <origin rpy="0 0 0" xyz="-4.2e-05 0.061882 -0.073788"/>
            <mass value="1.440357"/>
            <inertia ixx="0.006761" ixy="6e-06" ixz="-3e-06" iyy="0.002087" iyz="0.002046" izz="0.005778"/>
        </inertial>
        <visual>
            <origin rpy="0 0 0" xyz="0 0 0"/>
            <geometry>
                <mesh filename="package://digit_description//meshes_new/arm-L2.stl" scale="1 -1 1"/>
            </geometry>
            <material name="LightGrey">
                <color rgba="0.7 0.7 0.7 1.0"/>
            </material>
        </visual>
        <collision>
            <origin rpy="0 0 0" xyz="0 0 0"/>
            <geometry>
                <mesh filename="package://digit_description//meshes_new/arm-L2.stl" scale="1 -1 1"/>
            </geometry>
        </collision>
    </link>

    <joint name="shoulder_yaw_joint_right" type="revolute">
        <origin rpy="-1.57079632679 0 0" xyz="0 0.165 -0.1"/>
        <axis xyz="0 0 1"/>
        <parent link="right_shoulder_pitch"/>
        <child link="right_shoulder_yaw"/>
        <limit effort="1.4" lower="-1.7453" upper="1.7453" velocity="10"/>
    </joint>

    <link name="right_shoulder_yaw">
        <inertial>
            <origin rpy="0 0 0" xyz="-3e-05 -0.001937 0.11407"/>
            <mass value="1.065387"/>
            <inertia ixx="0.006967" ixy="-1e-06" ixz="-1e-06" iyy="0.007003" iyz="-1.5e-05" izz="0.000673"/>
        </inertial>
        <visual>
            <origin rpy="0 0 0" xyz="0 0 0"/>
            <geometry>
                <mesh filename="package://digit_description//meshes_new/arm-L3.stl" scale="1 -1 1"/>
            </geometry>

            <material name="LightGrey">
                <color rgba="0.7 0.7 0.7 1.0"/>
            </material>
        </visual>
        <collision>
            <origin rpy="0 0 0" xyz="0 0 0"/>
            <geometry>
                <mesh filename="package://digit_description//meshes_new/arm-L3.stl" scale="1 -1 1"/>
            </geometry>
        </collision>
    </link>

    <joint name="right_elbow_joint" type="revolute">
        <origin rpy="-1.57079632679 -0.3926991 0" xyz="0 0.0385 0.185"/>
        <axis xyz="0 0 1"/>
        <parent link="right_shoulder_yaw"/>
        <child link="right_elbow"/>
        <limit effort="1.4" lower="-1.3526" upper="1.3526" velocity="12.5"/>
    </joint>

    <link name="right_elbow">
        <inertial>
            <origin rpy="0 0 0" xyz="0.107996 0.000521 -0.017765"/>
            <mass value="0.550582"/>
            <inertia ixx="0.000476" ixy="2.9e-05" ixz="0.001403" iyy="0.009564" iyz="-9e-06" izz="0.009437"/>
        </inertial>
        <visual>
            <origin rpy="0 0 0" xyz="0 0 0"/>
            <geometry>
                <mesh filename="package://digit_description//meshes_new/arm-L4.stl" scale="1 -1 1"/>
            </geometry>

            <material name="LightGrey">
                <color rgba="0.7 0.7 0.7 1.0"/>
            </material>
        </visual>
        <collision>
            <origin rpy="0 0 0" xyz="0 0 0"/>
            <geometry>
                <mesh filename="package://digit_description//meshes_new/arm-L4.stl" scale="1 -1 1"/>
            </geometry>
        </collision>
    </link>

    <joint name="cp_left_achillies_rod_joint" type="fixed">
        <origin rpy="0 0 0" xyz="0 0 0"/>
        <axis xyz="0 0 1"/>
        <parent link="left_achillies_rod"/>
        <child link="cp_left_achillies_rod"/>
    </joint>

    <link name="cp_left_achillies_rod">
        <visual>
            <origin rpy="0 0 0" xyz="0 0 0"/>
            <geometry>
                <sphere radius="0.010"/>
            </geometry>
            <material name="LightPurple">
                <color rgba="0.6 0.1 0.9 0.7"/>
            </material>
        </visual>
    </link>

    <joint name="cp_left_heel_spring_joint" type="fixed">
        <origin rpy="0 0 0" xyz="0.113789 -0.011056 0"/>
        <axis xyz="0 0 1"/>
        <parent link="left_heel_spring"/>
        <child link="cp_left_heel_spring"/>
    </joint>

    <link name="cp_left_heel_spring">
        <visual>
            <origin rpy="0 0 0" xyz="0 0 0"/>
            <geometry>
                <sphere radius="0.015"/>
            </geometry>
            <material name="LightGreen">
                <color rgba="0.0 0.7 0.0 0.7"/>
            </material>
        </visual>
    </link>

    <joint name="cp_right_achillies_rod_joint" type="fixed">
        <origin rpy="0 0 0" xyz="0 0 0"/>
        <axis xyz="0 0 1"/>
        <parent link="right_achillies_rod"/>
        <child link="cp_right_achillies_rod"/>
    </joint>

    <link name="cp_right_achillies_rod">
        <visual>
            <origin rpy="0 0 0" xyz="0 0 0"/>
            <geometry>
                <sphere radius="0.010"/>
            </geometry>
            <material name="LightPurple">
                <color rgba="0.6 0.1 0.9 0.7"/>
            </material>
        </visual>
    </link>

    <joint name="cp_right_heel_spring_joint" type="fixed">
        <origin rpy="0 0 0" xyz="0.113789 0.011056 0"/>
        <axis xyz="0 0 1"/>
        <parent link="right_heel_spring"/>
        <child link="cp_right_heel_spring"/>
    </joint>

    <link name="cp_right_heel_spring">
        <visual>
            <origin rpy="0 0 0" xyz="0 0 0"/>
            <geometry>
                <sphere radius="0.015"/>
            </geometry>
            <material name="LightGreen">
                <color rgba="0.0 0.7 0.0 0.7"/>
            </material>
        </visual>
    </link>

    <joint name="cp_left_toe_A_rod_joint" type="fixed">
        <origin rpy="0 0 0" xyz="0 0 0"/>
        <axis xyz="0 0 1"/>
        <parent link="left_toe_A_rod"/>
        <child link="cp_left_toe_A_rod"/>
    </joint>

    <link name="cp_left_toe_A_rod">
        <visual>
            <origin rpy="0 0 0" xyz="0 0 0"/>
            <geometry>
                <sphere radius="0.010"/>
            </geometry>
            <material name="LightPurple">
                <color rgba="0.6 0.1 0.9 0.7"/>
            </material>
        </visual>
    </link>

    <joint name="cp_left_toe_roll_A_joint" type="fixed">
        <origin rpy="0 0 0" xyz="0.0179 -0.009551 -0.054164"/>
        <axis xyz="0 0 1"/>
        <parent link="left_toe_roll"/>
        <child link="cp_left_toe_roll_A"/>
    </joint>

    <link name="cp_left_toe_roll_A">
        <visual>
            <origin rpy="0 0 0" xyz="0 0 0"/>
            <geometry>
                <sphere radius="0.015"/>
            </geometry>
            <material name="LightGreen">
                <color rgba="0.0 0.7 0.0 0.7"/>
            </material>
        </visual>
    </link>

    <joint name="cp_left_toe_B_rod_joint" type="fixed">
        <origin rpy="0 0 0" xyz="0 0 0"/>
        <axis xyz="0 0 1"/>
        <parent link="left_toe_B_rod"/>
        <child link="cp_left_toe_B_rod"/>
    </joint>

    <link name="cp_left_toe_B_rod">
        <visual>
            <origin rpy="0 0 0" xyz="0 0 0"/>
            <geometry>
                <sphere radius="0.010"/>
            </geometry>
            <material name="LightPurple">
                <color rgba="0.6 0.1 0.9 0.7"/>
            </material>
        </visual>
    </link>

    <joint name="cp_left_toe_roll_B_joint" type="fixed">
        <origin rpy="0 0 0" xyz="-0.0181 -0.009551 -0.054164"/>
        <axis xyz="0 0 1"/>
        <parent link="left_toe_roll"/>
        <child link="cp_left_toe_roll_B"/>
    </joint>

    <link name="cp_left_toe_roll_B">
        <visual>
            <origin rpy="0 0 0" xyz="0 0 0"/>
            <geometry>
                <sphere radius="0.015"/>
            </geometry>
            <material name="LightGreen">
                <color rgba="0.0 0.7 0.0 0.7"/>
            </material>
        </visual>
    </link>

    <joint name="cp_right_toe_A_rod_joint" type="fixed">
        <origin rpy="0 0 0" xyz="0 0 0"/>
        <axis xyz="0 0 1"/>
        <parent link="right_toe_A_rod"/>
        <child link="cp_right_toe_A_rod"/>
    </joint>

    <link name="cp_right_toe_A_rod">
        <visual>
            <origin rpy="0 0 0" xyz="0 0 0"/>
            <geometry>
                <sphere radius="0.010"/>
            </geometry>
            <material name="LightPurple">
                <color rgba="0.6 0.1 0.9 0.7"/>
            </material>
        </visual>
    </link>

    <joint name="cp_right_toe_roll_A_joint" type="fixed">
        <origin rpy="0 0 0" xyz="0.0179 0.009551 -0.054164"/>
        <axis xyz="0 0 1"/>
        <parent link="right_toe_roll"/>
        <child link="cp_right_toe_roll_A"/>
    </joint>

    <link name="cp_right_toe_roll_A">
        <visual>
            <origin rpy="0 0 0" xyz="0 0 0"/>
            <geometry>
                <sphere radius="0.015"/>
            </geometry>
            <material name="LightGreen">
                <color rgba="0.0 0.7 0.0 0.7"/>
            </material>
        </visual>
    </link>

    <joint name="cp_right_toe_B_rod_joint" type="fixed">
        <origin rpy="0 0 0" xyz="0 0 0"/>
        <axis xyz="0 0 1"/>
        <parent link="right_toe_B_rod"/>
        <child link="cp_right_toe_B_rod"/>
    </joint>

    <link name="cp_right_toe_B_rod">
        <visual>
            <origin rpy="0 0 0" xyz="0 0 0"/>
            <geometry>
                <sphere radius="0.010"/>
            </geometry>
            <material name="LightPurple">
                <color rgba="0.6 0.1 0.9 0.7"/>
            </material>
        </visual>
    </link>

    <joint name="cp_right_toe_roll_B_joint" type="fixed">
        <origin rpy="0 0 0" xyz="-0.0181 0.009551 -0.054164"/>
        <axis xyz="0 0 1"/>
        <parent link="right_toe_roll"/>
        <child link="cp_right_toe_roll_B"/>
    </joint>

    <link name="cp_right_toe_roll_B">
        <visual>
            <origin rpy="0 0 0" xyz="0 0 0"/>
            <geometry>
                <sphere radius="0.015"/>
            </geometry>
            <material name="LightGreen">
                <color rgba="0.0 0.7 0.0 0.7"/>
            </material>
        </visual>
    </link>

    <link name="contact1">
        <visual>
            <origin rpy="0 0 0" xyz="-0.04000014 -0.11085709 0.07003817"/>
            <geometry>
                <sphere radius="0.015"/>
            </geometry>
            <material name="LightBlue">
                <color rgba="0.0 0.0 0.7 0.7"/>
            </material>
        </visual>
    </link>
    <link name="contact2">
        <visual>
            <origin rpy="0 0 0" xyz="0.03999983 -0.11082681 0.07005585"/>
            <geometry>
                <sphere radius="0.015"/>
            </geometry>
            <material name="LightBlue">
                <color rgba="0.0 0.0 0.7 0.7"/>
            </material>
        </visual>
    </link>
    <link name="contact3">
        <visual>
            <origin rpy="0 0 0" xyz="-0.04000029 0.00799069 -0.13385178"/>
            <geometry>
                <sphere radius="0.015"/>
            </geometry>
            <material name="LightBlue">
                <color rgba="0.0 0.0 0.7 0.7"/>
            </material>
        </visual>
    </link>
    <link name="contact4">
        <visual>
            <origin rpy="0 0 0" xyz="0.03999968 0.00802097 -0.13383410"/>
            <geometry>
                <sphere radius="0.015"/>
            </geometry>
            <material name="LightBlue">
                <color rgba="0.0 0.0 0.7 0.7"/>
            </material>
        </visual>
    </link>
    <link name="contact5">
        <visual>
            <origin rpy="0 0 0" xyz="0.03999945 0.11063009 0.07017034"/>
            <geometry>
                <sphere radius="0.015"/>
            </geometry>
            <material name="LightBlue">
                <color rgba="0.0 0.0 0.7 0.7"/>
            </material>
        </visual>
    </link>
    <link name="contact6">
        <visual>
            <origin rpy="0 0 0" xyz="-0.04000014 0.11085020 0.07004217"/>
            <geometry>
                <sphere radius="0.015"/>
            </geometry>
            <material name="LightBlue">
                <color rgba="0.0 0.0 0.7 0.7"/>
            </material>
        </visual>
    </link>
    <link name="contact7">
        <visual>
            <origin rpy="0 0 0" xyz="0.03999968 -0.00801787 -0.13383595"/>
            <geometry>
                <sphere radius="0.015"/>
            </geometry>
            <material name="LightBlue">
                <color rgba="0.0 0.0 0.7 0.7"/>
            </material>
        </visual>
    </link>
    <link name="contact8">
        <visual>
            <origin rpy="0 0 0" xyz="-0.04000029 -0.00798741 -0.13385373"/>
            <geometry>
                <sphere radius="0.015"/>
            </geometry>
            <material name="LightBlue">
                <color rgba="0.0 0.0 0.7 0.7"/>
            </material>
        </visual>
    </link>

    <joint name="contact1_joint" type="fixed">
        <origin rpy="0 0 0" xyz="0 0 0"/>
        <parent link="left_toe_roll"/>
        <child link="contact1"/>
    </joint>
    <joint name="contact2_joint" type="fixed">
        <origin rpy="0 0 0" xyz="0 0 0"/>
        <parent link="left_toe_roll"/>
        <child link="contact2"/>
    </joint>
    <joint name="contact3_joint" type="fixed">
        <origin rpy="0 0 0" xyz="0 0 0"/>
        <parent link="left_toe_roll"/>
        <child link="contact3"/>
    </joint>
    <joint name="contact4_joint" type="fixed">
        <origin rpy="0 0 0" xyz="0 0 0"/>
        <parent link="left_toe_roll"/>
        <child link="contact4"/>
    </joint>
    <joint name="contact5_joint" type="fixed">
        <origin rpy="0 0 0" xyz="0 0 0"/>
        <parent link="right_toe_roll"/>
        <child link="contact5"/>
    </joint>
    <joint name="contact6_joint" type="fixed">
        <origin rpy="0 0 0" xyz="0 0 0"/>
        <parent link="right_toe_roll"/>
        <child link="contact6"/>
    </joint>
    <joint name="contact7_joint" type="fixed">
        <origin rpy="0 0 0" xyz="0 0 0"/>
        <parent link="right_toe_roll"/>
        <child link="contact7"/>
    </joint>
    <joint name="contact8_joint" type="fixed">
        <origin rpy="0 0 0" xyz="0 0 0"/>
        <parent link="right_toe_roll"/>
        <child link="contact8"/>
    </joint>

</robot>
